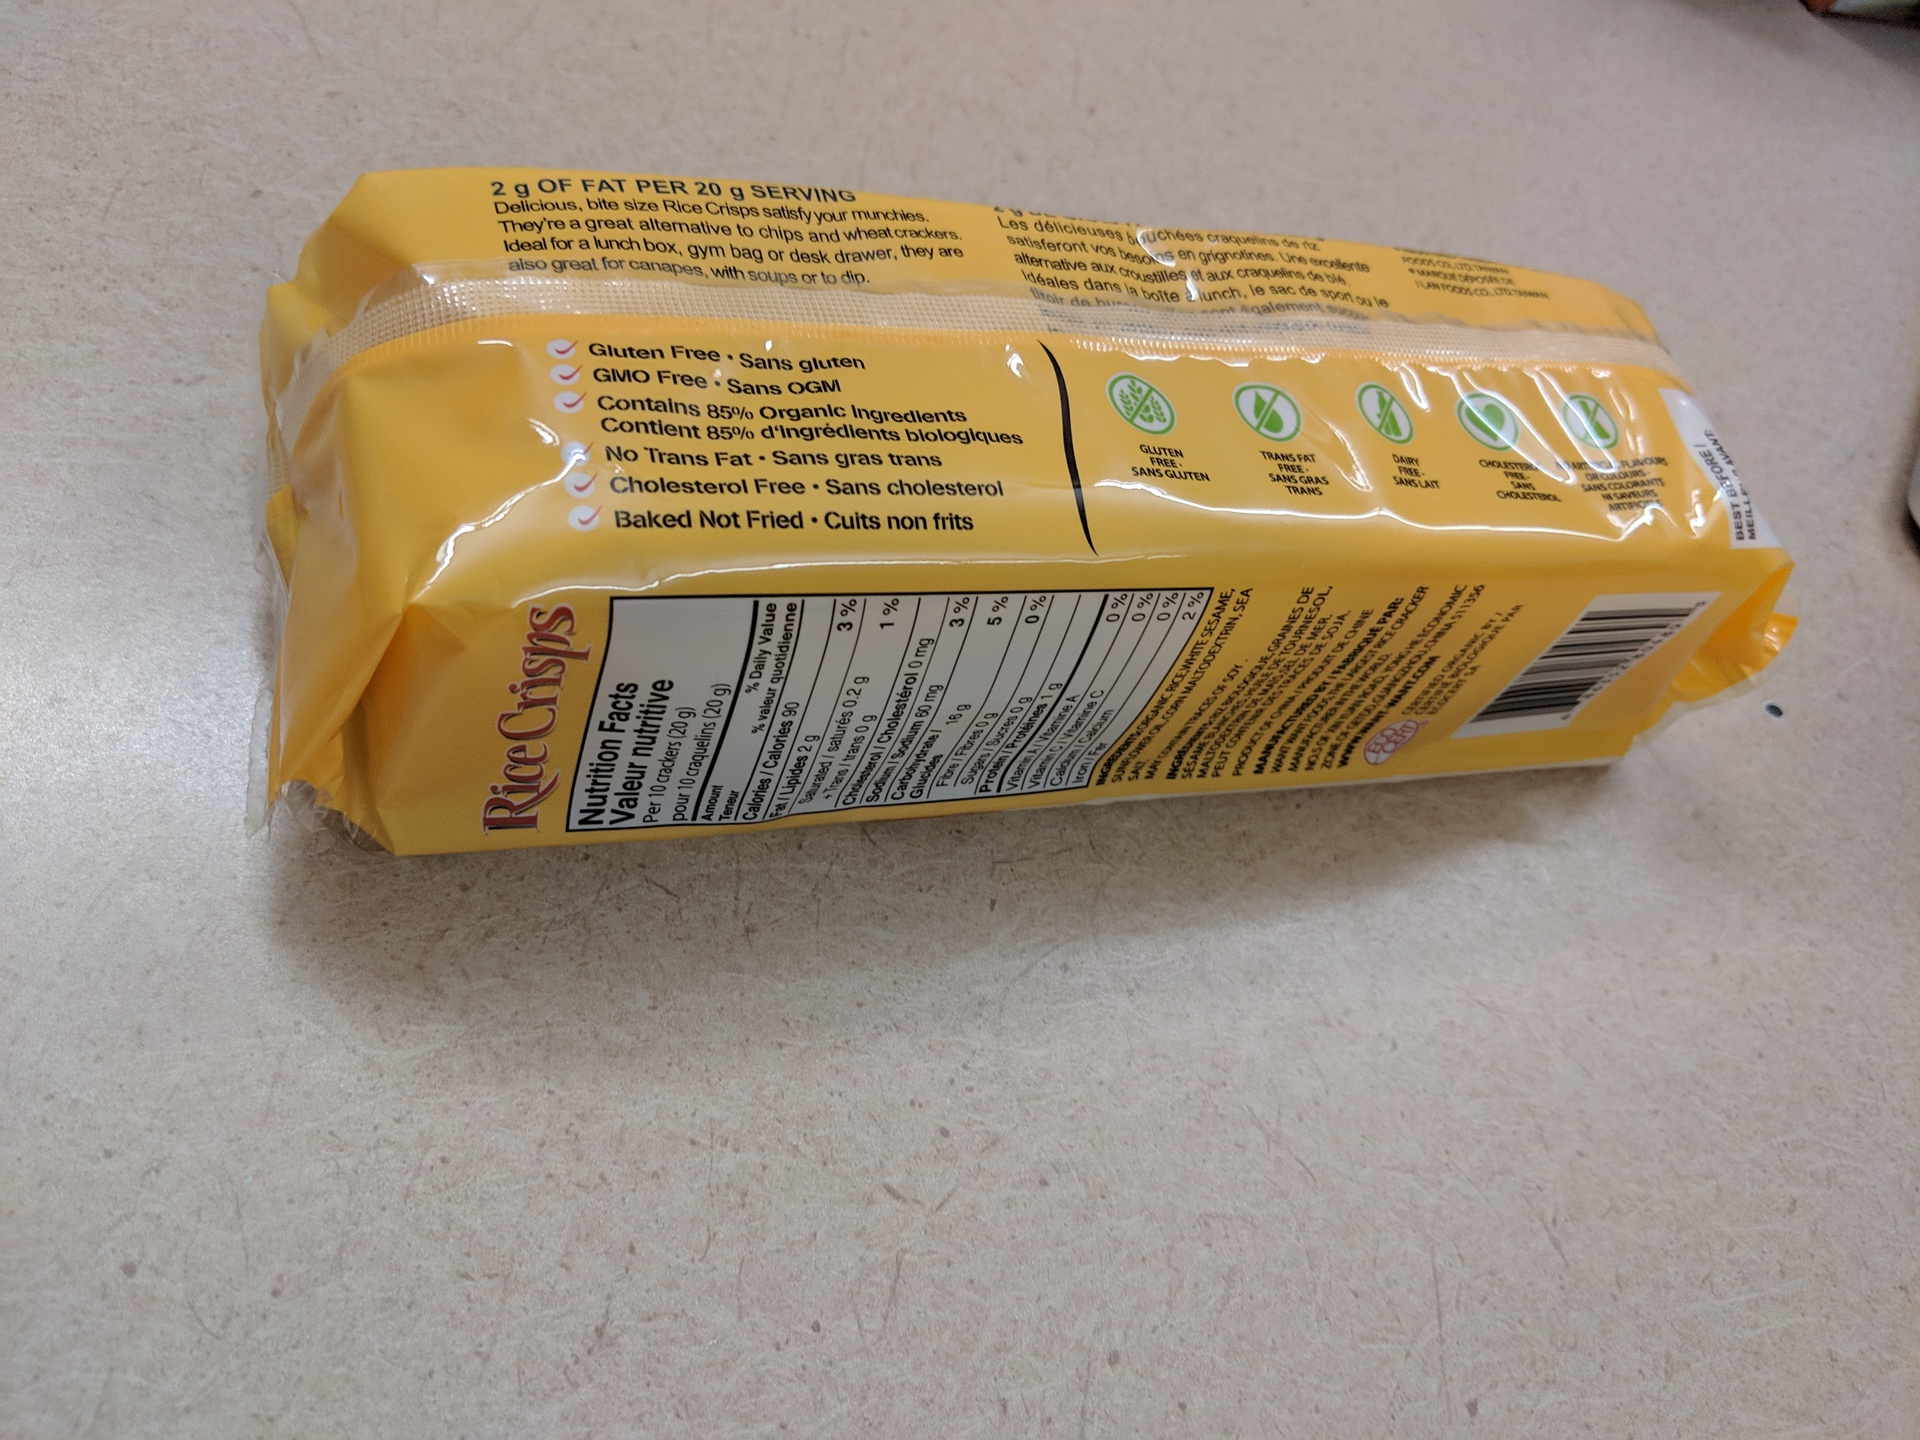hot_kid_rice_crisps_sesame: (115, 576, 1682, 1278)
